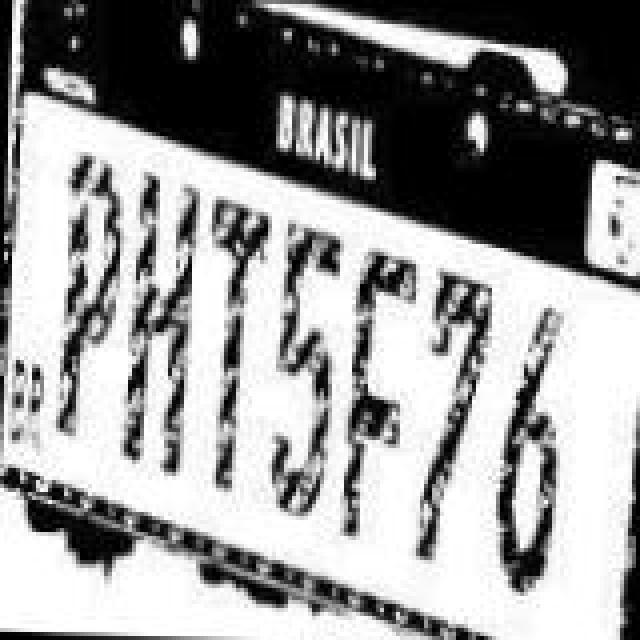5: (262, 224, 342, 508)
6: (486, 310, 570, 594)
7: (412, 270, 492, 558)
F: (342, 244, 422, 532)
H: (118, 176, 194, 468)
P: (54, 160, 122, 432)
T: (194, 200, 270, 484)
